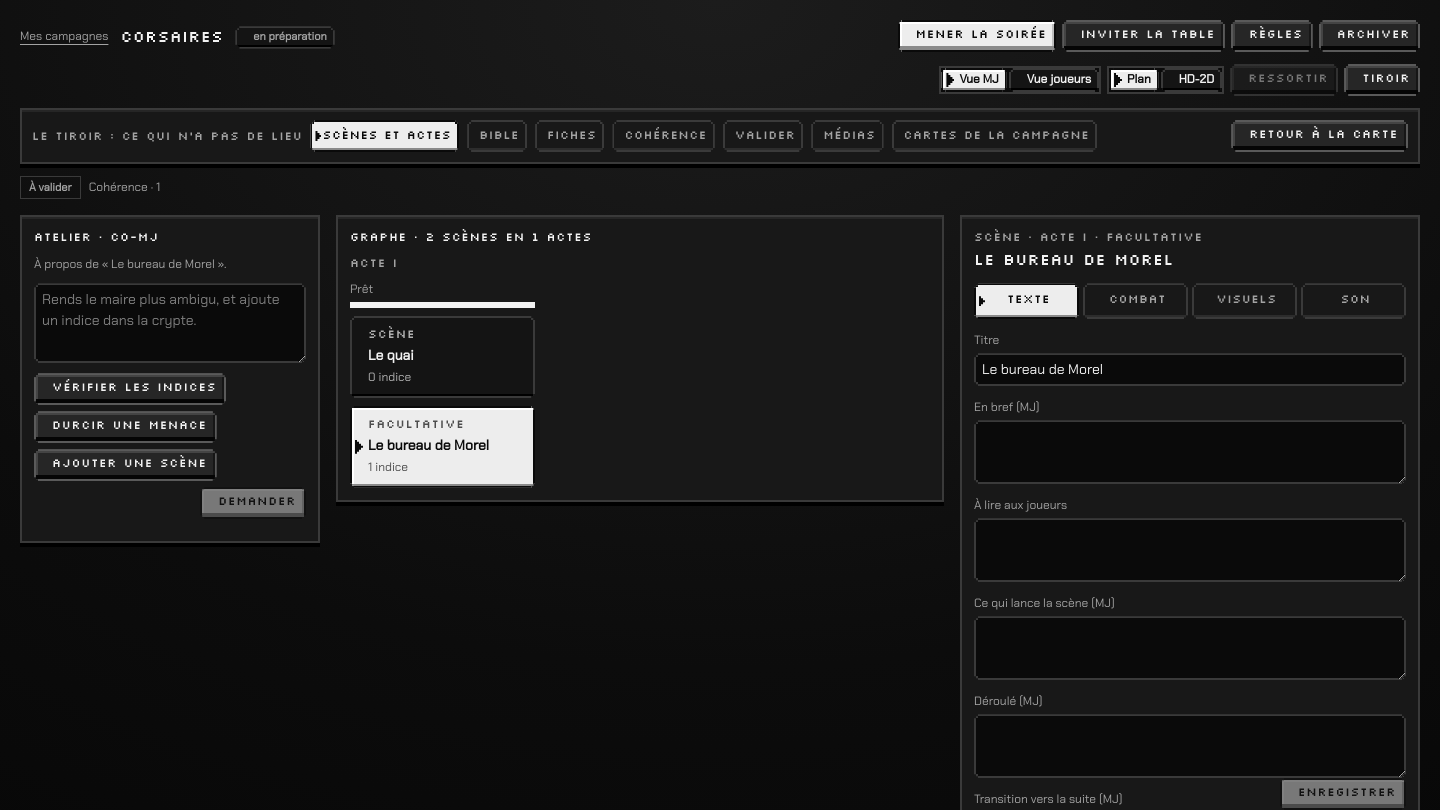
Scenario: PrepDesk, in the Atlas’s drawer › opens on the scene of an Atlas pin, and sends a scene with no spot to the map, not to the co-GM
This screenshot has width=1440, height=810.
Click the button "Cohérence": (664, 136) [612,120,715,152]
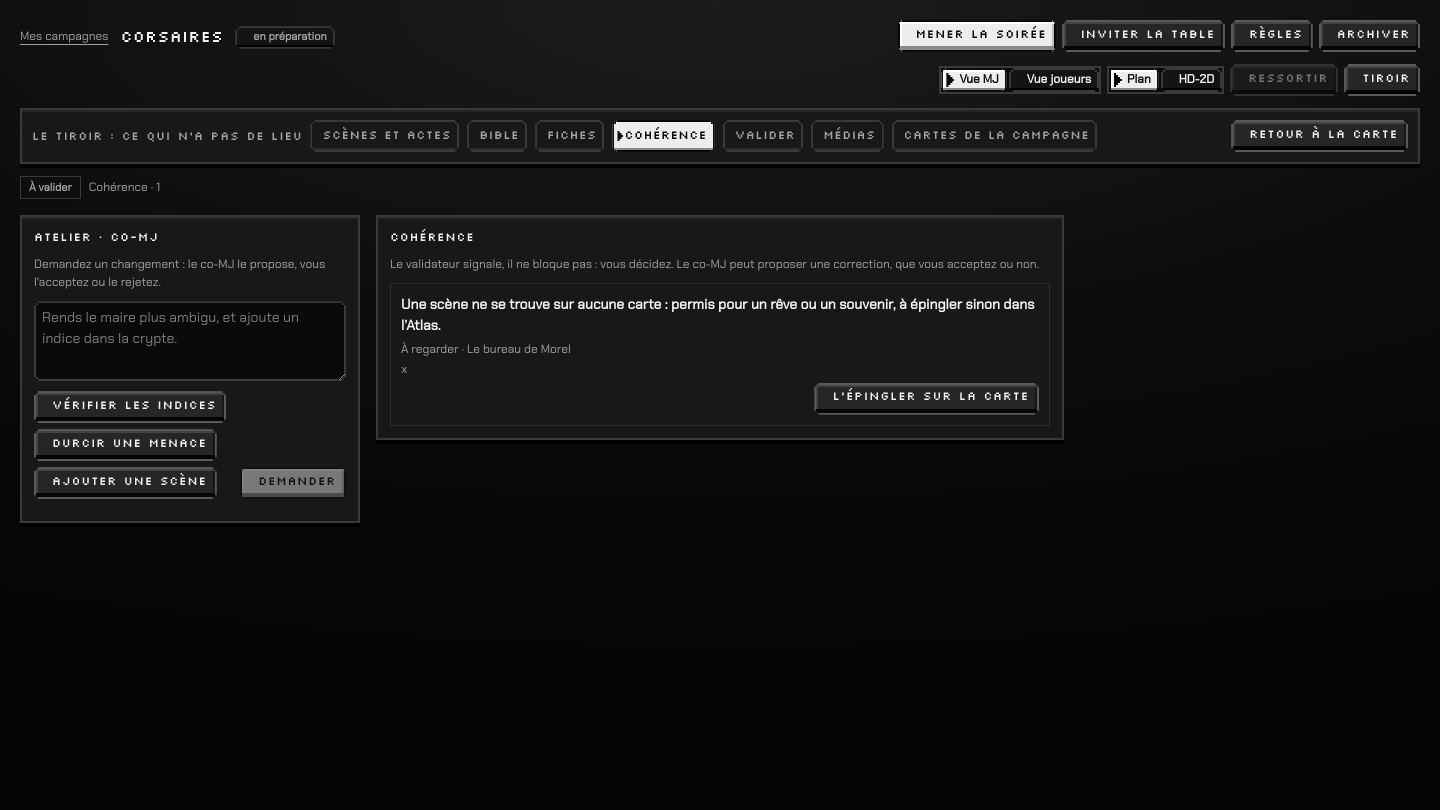
// Pinning it is the map's: the drawer closes on it — here, a campaign with no map yet.
Click the button "L’épingler sur la carte": (927, 399) [814,383,1039,415]
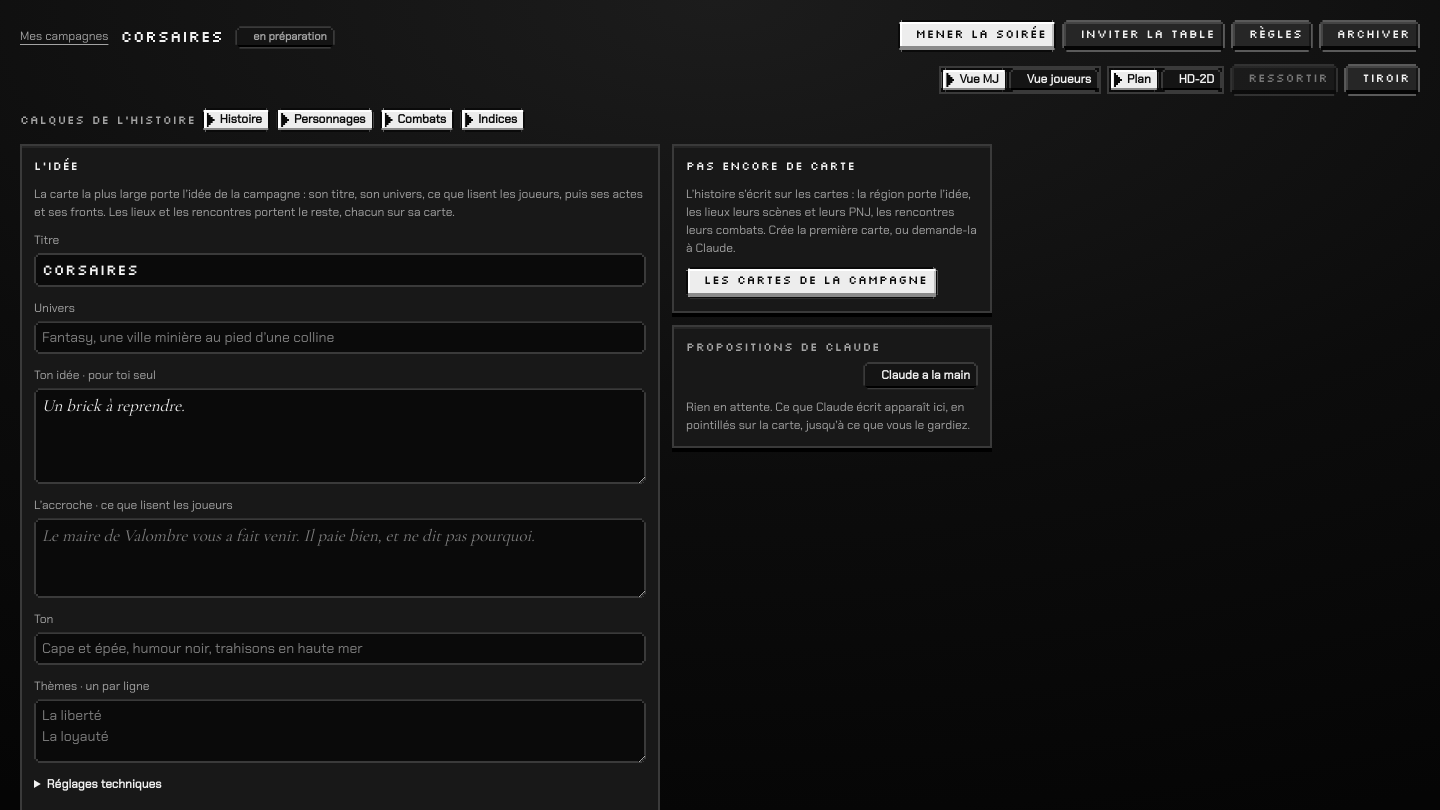
Result: the element "Pas encore de carte" is shown at [672,144,992,313]
